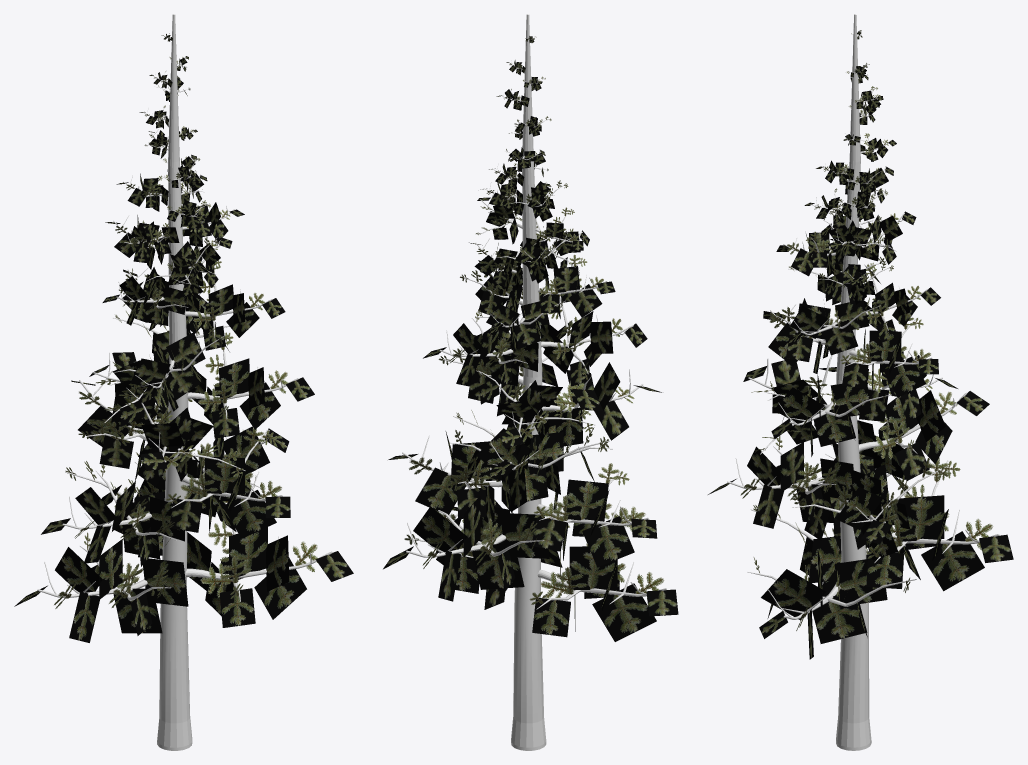
File: Pine tree combined low poly.fbx
3 views of the same model, side by side, from view 1: azimuth 30°, elevation 25°; view 2: azimuth 150°, elevation 25°; view 3: azimuth 270°, elevation 25° (orthographic).
Visible parts, largest first — view 1: polySurface2653; view 2: polySurface2653; view 3: polySurface2653.
Part boxes in pixels (left/top/right/bottom): polySurface2653: left=14, top=14, right=353, bottom=750; polySurface2653: left=383, top=14, right=678, bottom=750; polySurface2653: left=708, top=14, right=1013, bottom=750.
Size of the model in its own units: 18.8 by 45.19 by 17.21.
